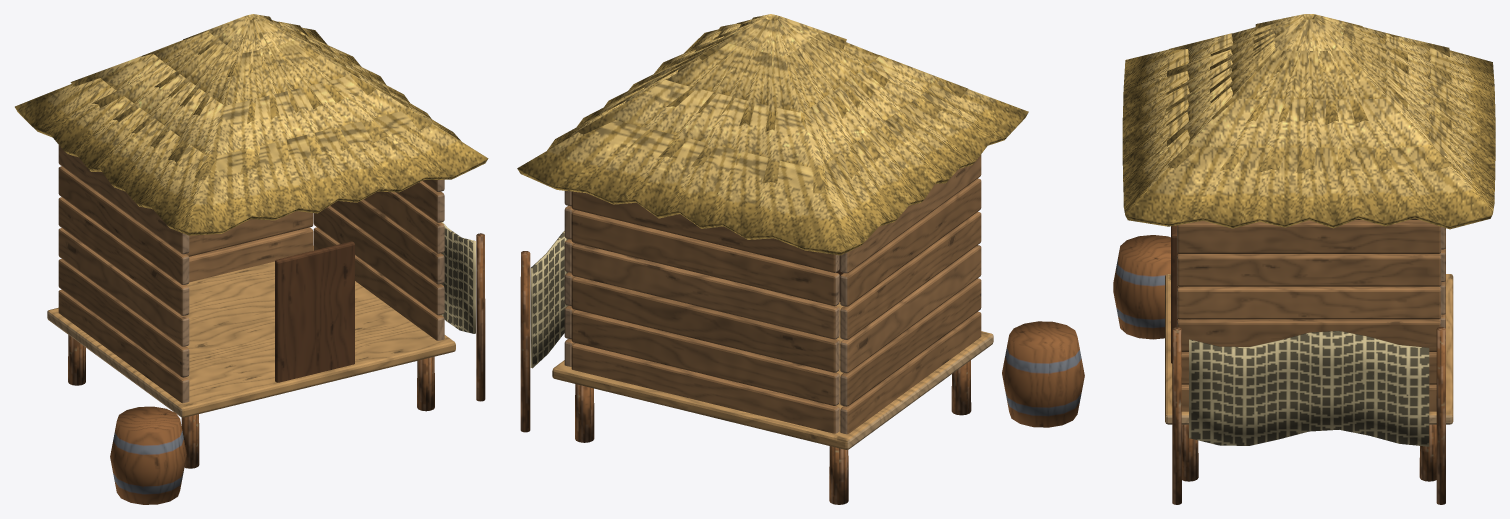
The model's file is fisher_hut.glb.
3 views of the same model, side by side, from view 1: azimuth 30°, elevation 25°; view 2: azimuth 150°, elevation 25°; view 3: azimuth 270°, elevation 25° (orthographic). The views are drawn at different scales.
Visible parts, largest first — view 1: FisherHut; view 2: FisherHut; view 3: FisherHut.
Part boxes in pixels (<box>): FisherHut: <box>15,14,488,504</box>; FisherHut: <box>517,14,1084,504</box>; FisherHut: <box>1113,14,1495,504</box>.
Bounding box in the file's own units: 3.88 × 3.68 × 3.18.
Materials: 1 (1 with a texture image).
